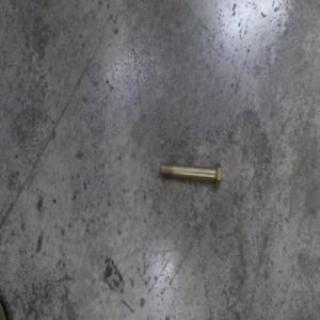Bolttrack_idkeyframe: (157, 157, 223, 185)
